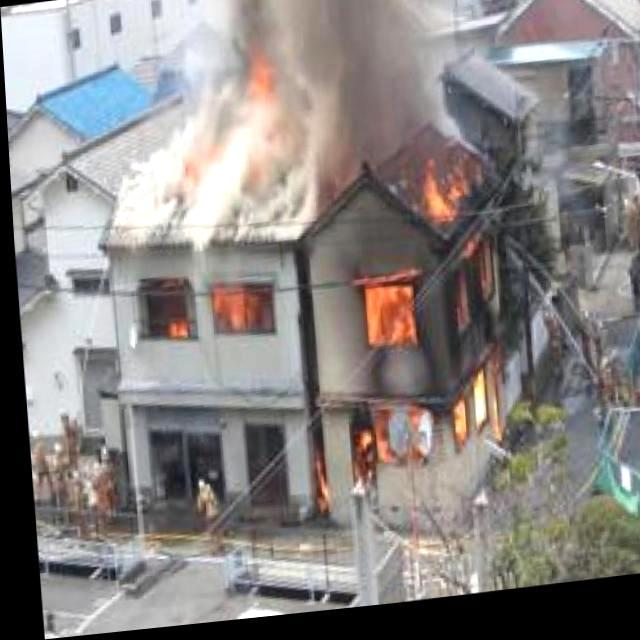fire: (327, 127, 529, 486), (153, 68, 279, 196), (128, 272, 280, 356)
